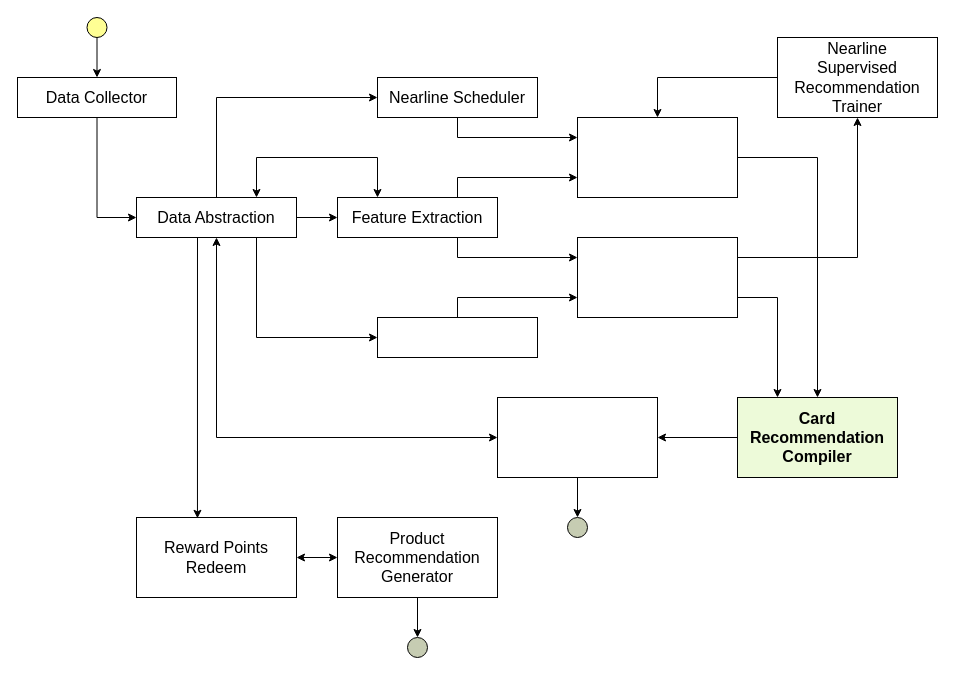
The diagram is 955 pixels wide and 675 high, and some of its shapes have lost their labels. The box of each missing label's shape, as (x1, y1, x2, y2) in pixels:
Card Recommendation Provider: (496, 396, 658, 478)
Nearline Supervised Recommendation Generator: (576, 116, 738, 198)
Offline Scheduler: (376, 316, 538, 358)
Offline Unsupervised Recommendation Generator: (576, 236, 738, 318)
